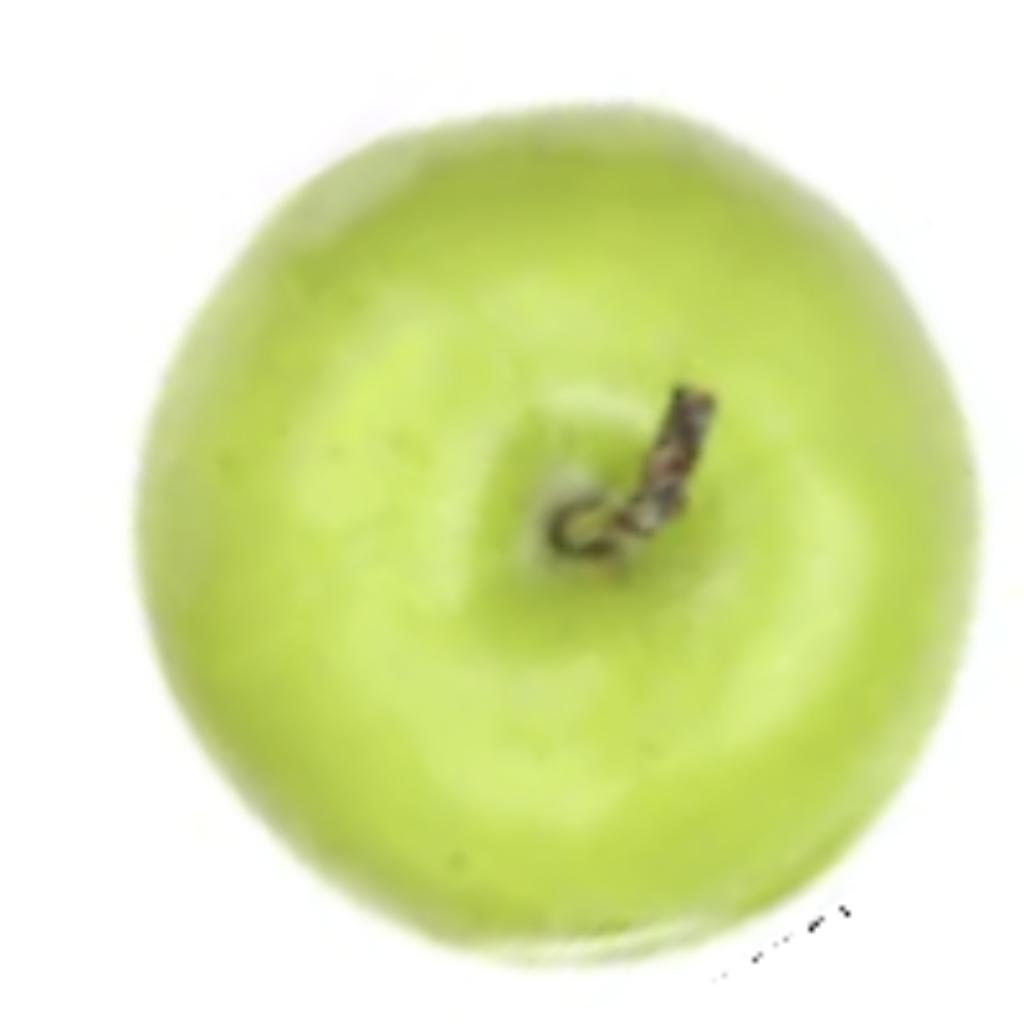apple: (123, 92, 988, 973)
